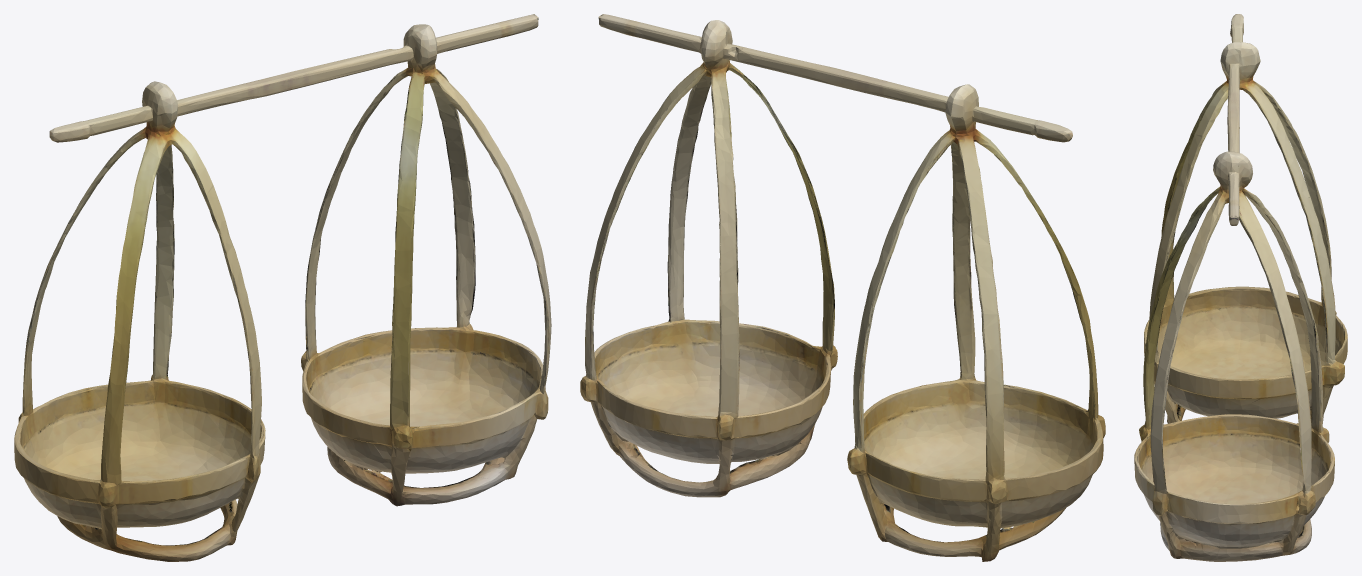
The model's file is ThungTre.glb.
3 views of the same model, side by side, from view 1: azimuth 30°, elevation 25°; view 2: azimuth 150°, elevation 25°; view 3: azimuth 270°, elevation 25° (orthographic). The views are drawn at different scales.
Visible parts, largest first — view 1: world; view 2: world; view 3: world.
Part boxes in pixels (x1,y1,x2,y2): world: (14,14,551,561); world: (580,14,1105,561); world: (1134,14,1347,561).
Bounding box in the file's own units: 1 × 0.8562 × 0.4242.
1 material, 1 textured.
